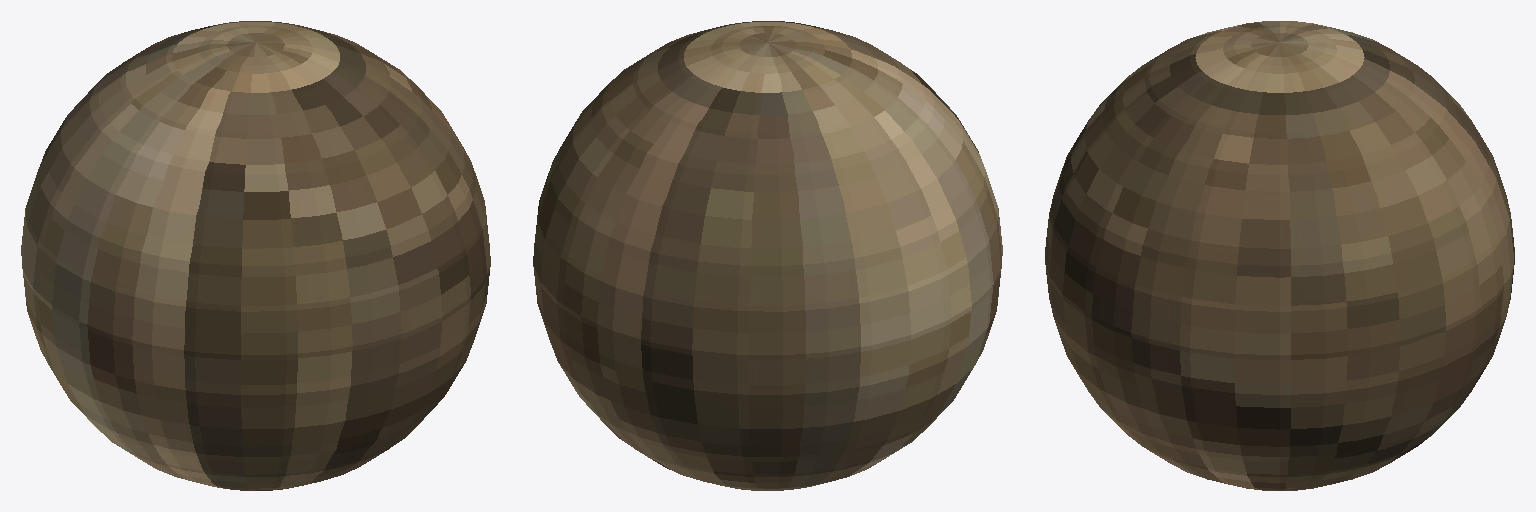
3 views of the same model, side by side, from view 1: azimuth 30°, elevation 25°; view 2: azimuth 150°, elevation 25°; view 3: azimuth 270°, elevation 25° (orthographic).
Visible parts, largest first — view 1: Sphere; view 2: Sphere; view 3: Sphere.
Boxes of the visible parts, x1,y1,x2,y2 form: Sphere: [21, 21, 490, 490]; Sphere: [533, 21, 1002, 490]; Sphere: [1045, 21, 1514, 490].
Bounding box in the file's own units: 2 × 2 × 2.
1 materials, 1 textured.